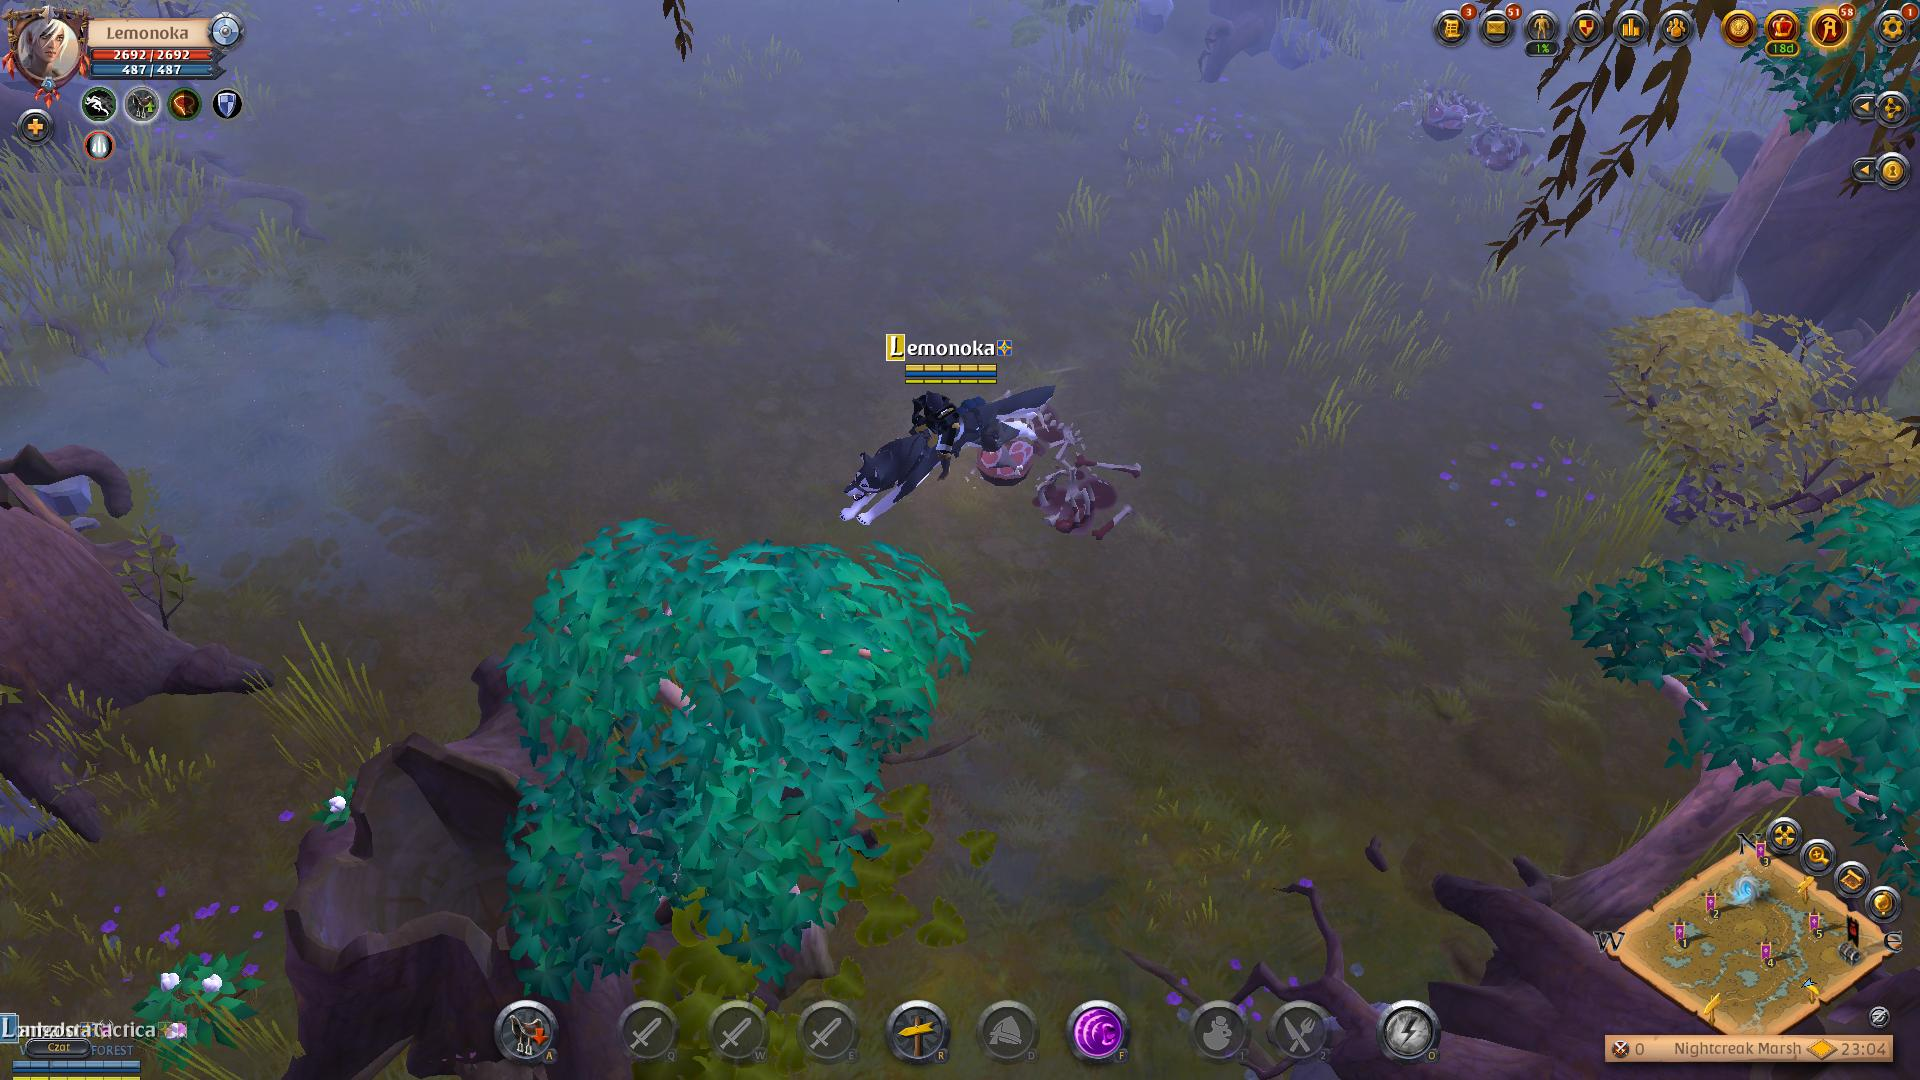fiber tier 3: (138, 955, 258, 1055)
wood tier 3: (505, 513, 981, 986)
